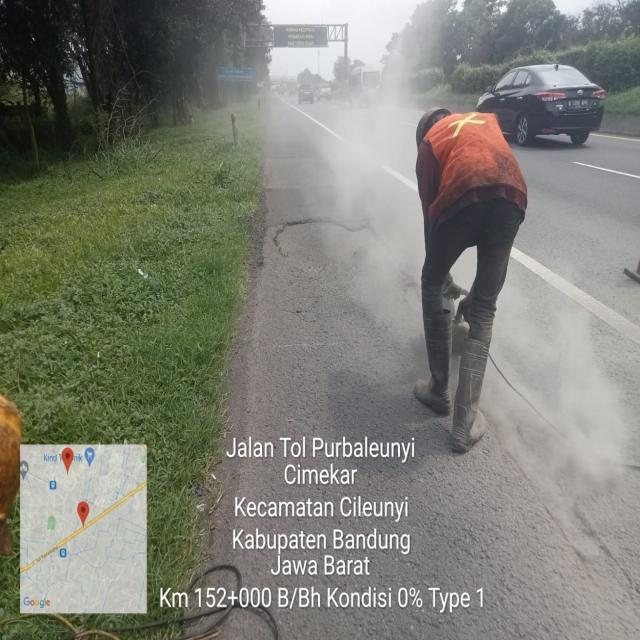Buraco: (269, 216, 382, 266)
